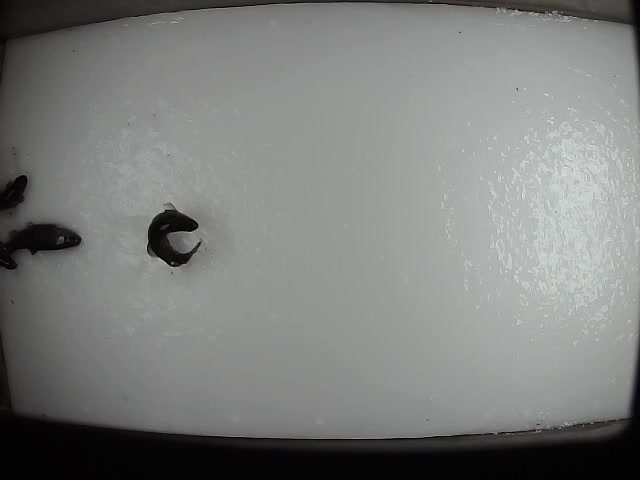Fish: (146, 201, 202, 268)
